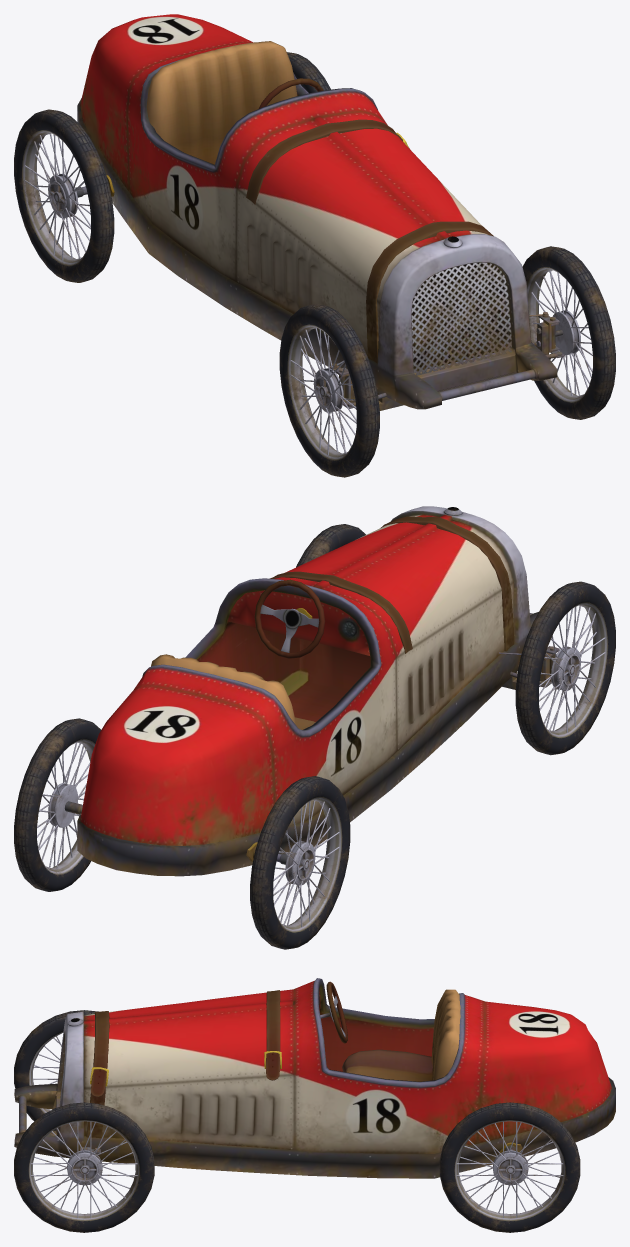
The model's file is v_kart.glb.
3 views of the same model, one above another, from view 1: azimuth 30°, elevation 25°; view 2: azimuth 150°, elevation 25°; view 3: azimuth 270°, elevation 25° (orthographic). The views are drawn at different scales.
Visible parts, largest first — view 1: Coque_low_CycleKart_0, Pneu_low_Wheel4_0; view 2: Coque_low_CycleKart_0, Pneu_low_Wheel4_0; view 3: Coque_low_CycleKart_0, Pneu_low_Wheel4_0.
Part boxes in pixels (x1,y1,x2,y2): Coque_low_CycleKart_0: (75, 14, 565, 410); Pneu_low_Wheel4_0: (14, 52, 615, 477); Coque_low_CycleKart_0: (64, 506, 559, 876); Pneu_low_Wheel4_0: (14, 524, 615, 949); Coque_low_CycleKart_0: (14, 978, 615, 1178); Pneu_low_Wheel4_0: (14, 1010, 580, 1232).
Bounding box in the file's own units: 1.07 × 1 × 2.73.
2 materials, 2 textured.
